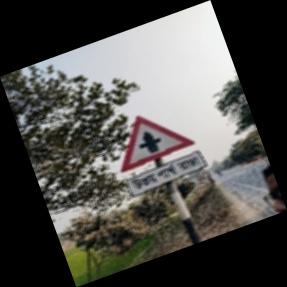Crossroad: (120, 115, 207, 244)
